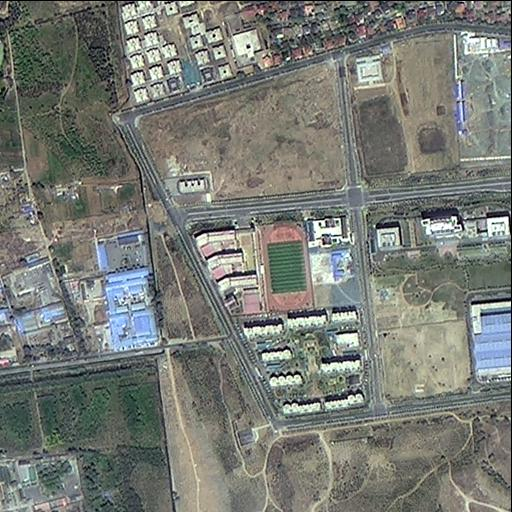school: (184, 211, 318, 319)
